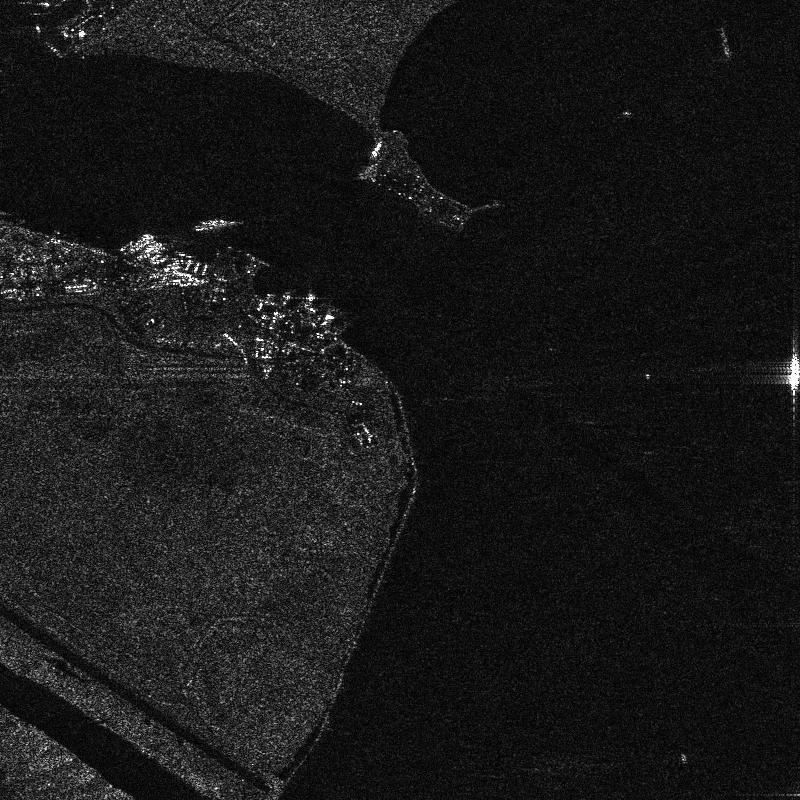ship: (128, 233, 154, 255), (195, 219, 234, 231), (137, 241, 158, 260), (717, 27, 730, 55), (789, 357, 799, 390), (144, 243, 162, 259), (149, 246, 165, 263), (371, 141, 383, 158), (120, 240, 134, 251), (154, 255, 168, 264), (282, 294, 291, 305), (201, 264, 208, 275), (193, 262, 200, 273), (184, 259, 191, 270)
